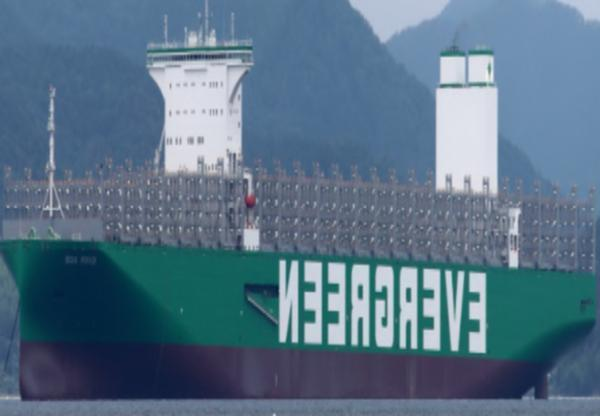Container Ship: (0, 0, 599, 401)
